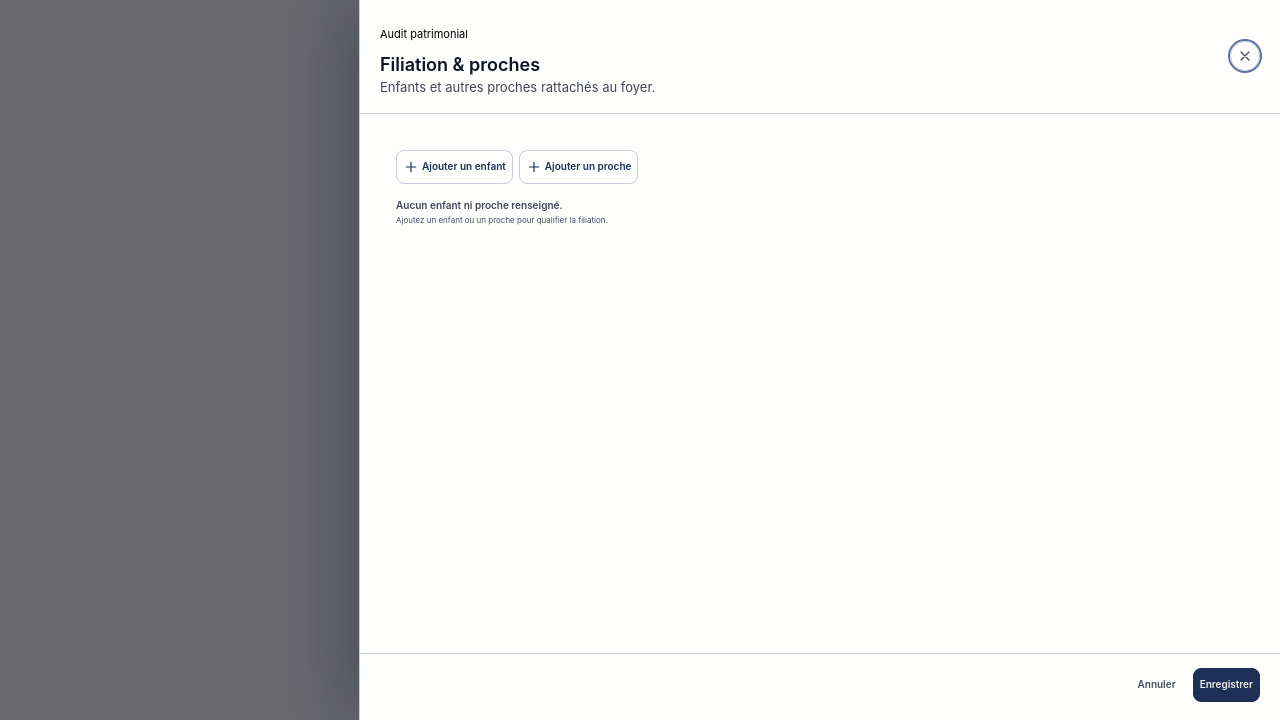
Test: FiliationDrawer › révèle le type d’adoption uniquement quand l’enfant est adopté
What coordinates should you click on to do the following:
click the button "Ajouter un enfant"
I would click on:
 (454, 167)
Its box is x1=396 y1=150 x2=513 y2=184.
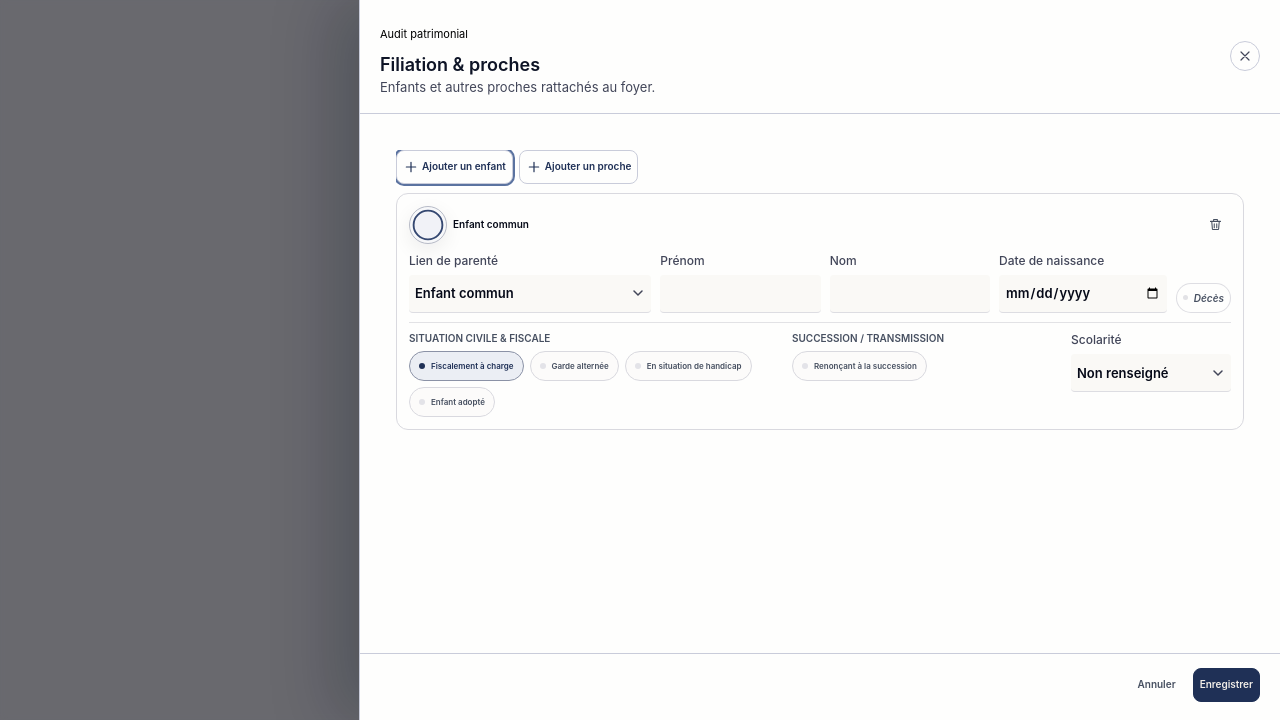
Expected: the button "Adoption plénière" is not shown
What coordinates should you click on to do the following:
click the button "Enfant adopté"
I would click on:
 (452, 402)
Its box is x1=409 y1=387 x2=495 y2=417.
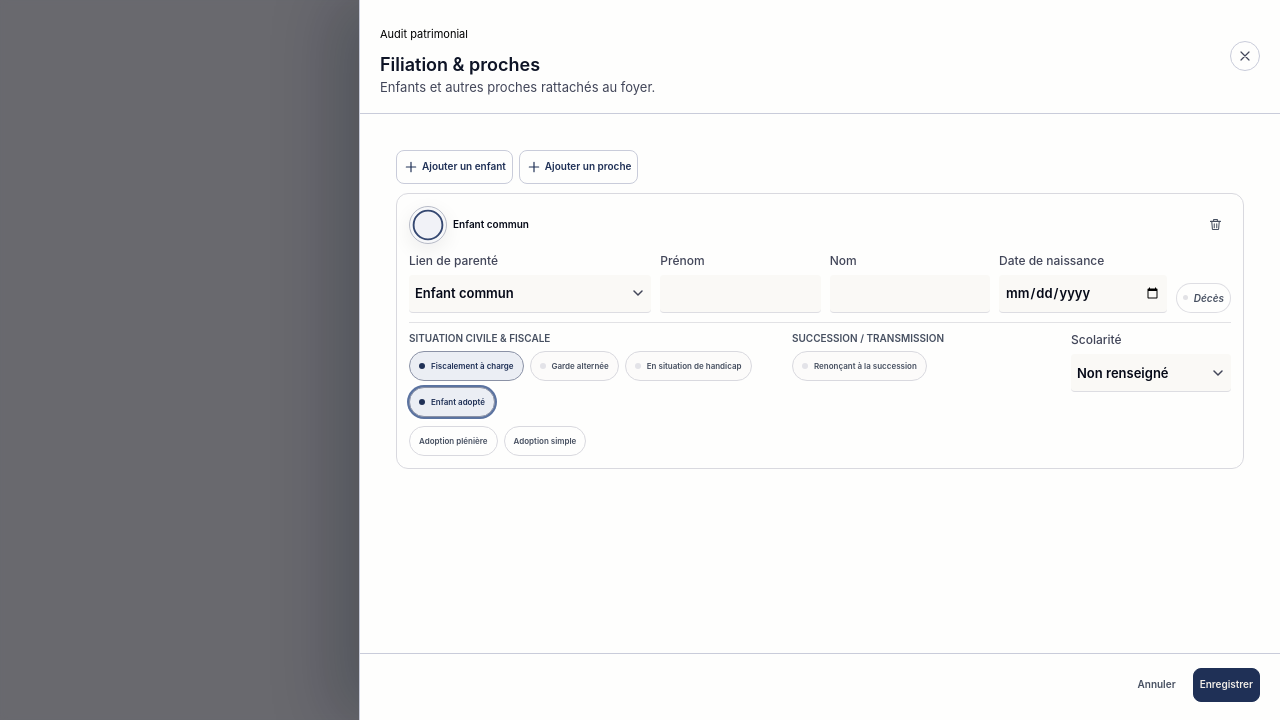
Expected: the button "Adoption plénière" is shown, x1=409 y1=426 x2=498 y2=456
Expected: the button "Adoption simple" is shown, x1=504 y1=426 x2=586 y2=456
